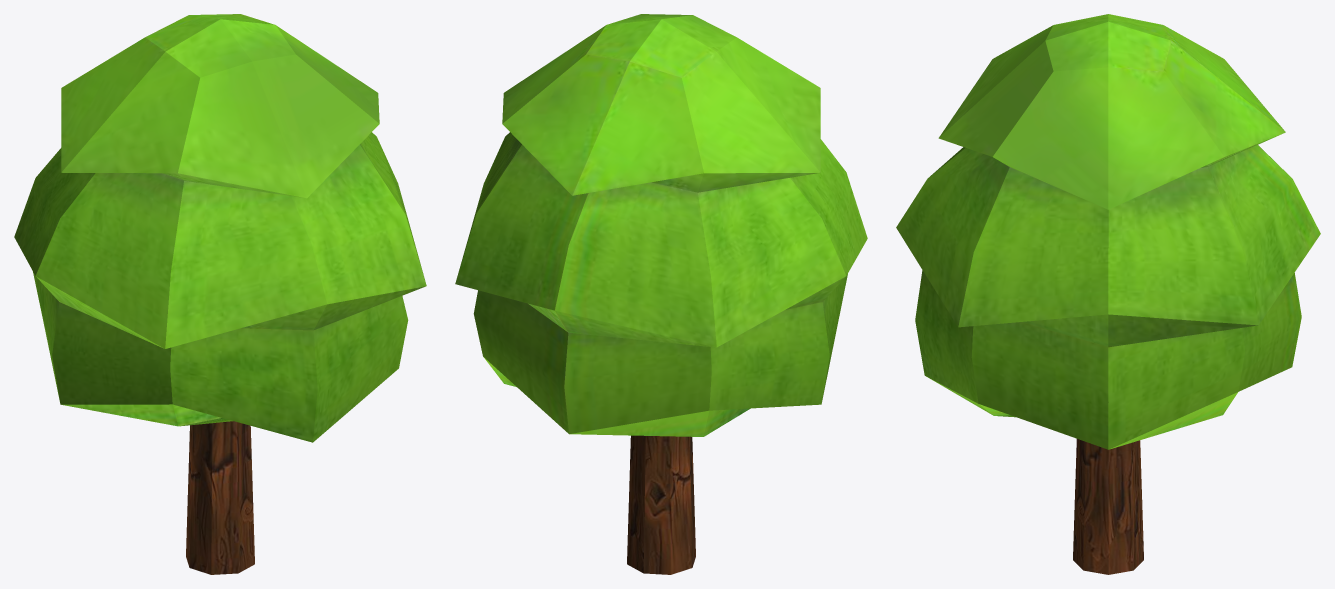
The model's file is Tree1.fbx.
The picture shows the model from 3 angles, left to right: view 1: azimuth 30°, elevation 25°; view 2: azimuth 150°, elevation 25°; view 3: azimuth 270°, elevation 25°; orthographic projection.
Visible parts, largest first — view 1: Trees_02; view 2: Trees_02; view 3: Trees_02.
Boxes of the visible parts, box(x1,y1,x2,y2) form: Trees_02: box(14, 14, 426, 574); Trees_02: box(455, 14, 867, 574); Trees_02: box(896, 14, 1320, 574).
Size of the model in its own units: 3429 by 4889 by 3498.
Materials: 1 (1 with a texture image).
